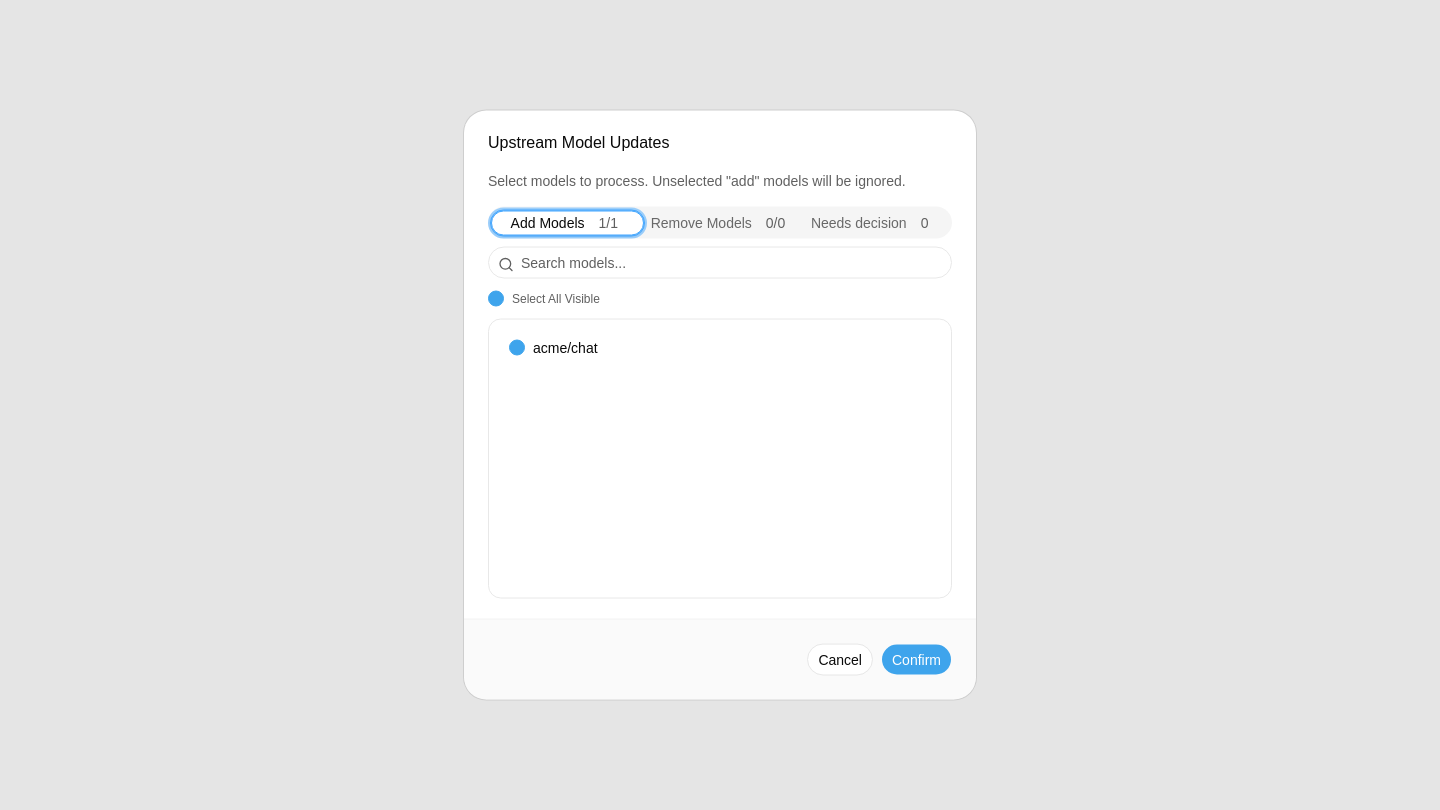
Scenario: upstream update dialog needs-decision section › shows the empty state when no conflict and no refused reserve need a decision
Click the tab "Needs decision 0" at {"x": 873, "y": 222}, box [796, 210, 949, 235]
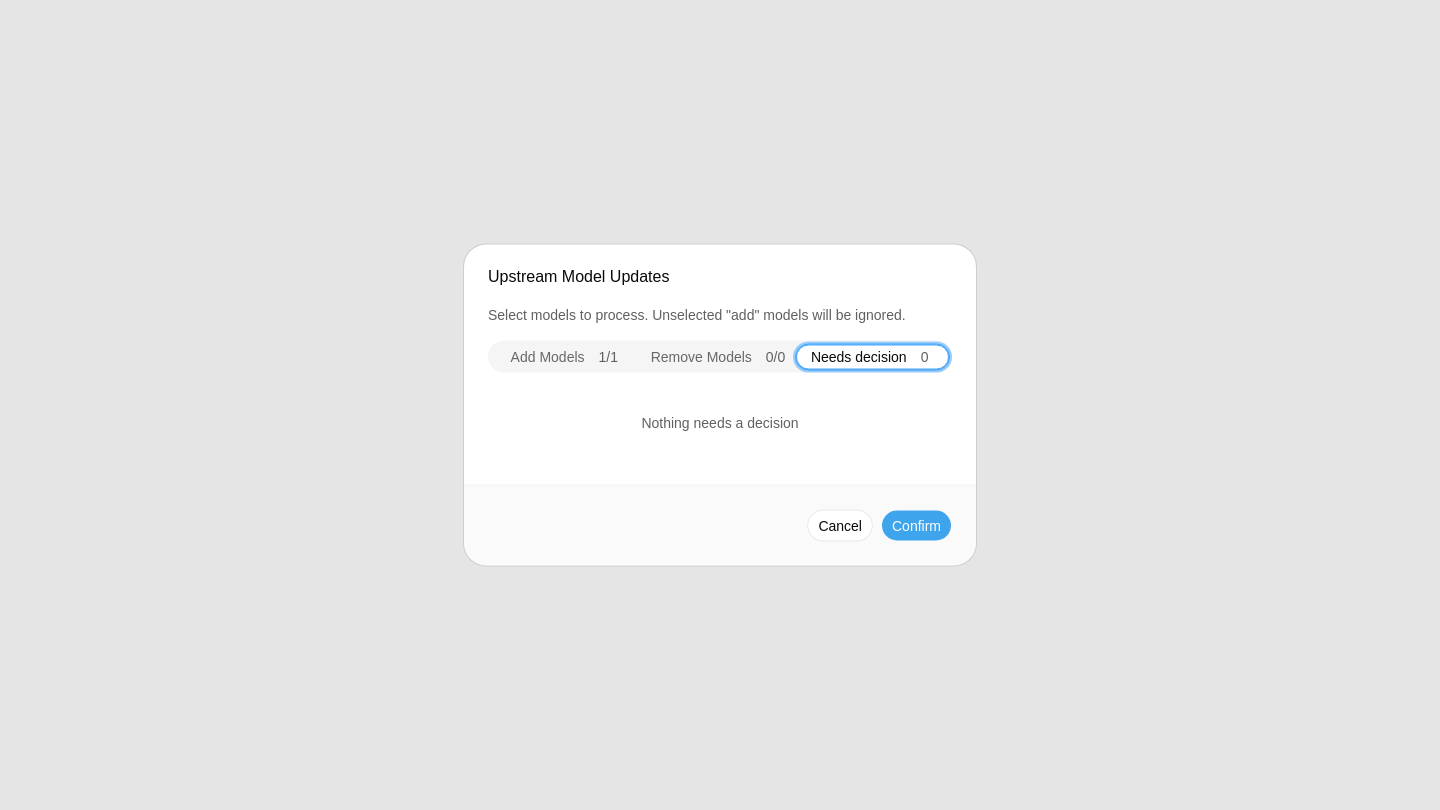
Check: the text "Nothing needs a decision" is shown, box [641, 414, 799, 430]
